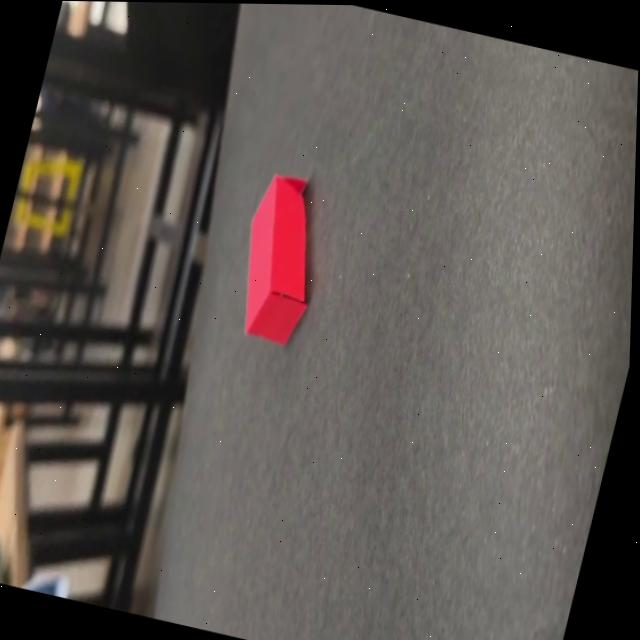red block: (221, 168, 335, 351)
